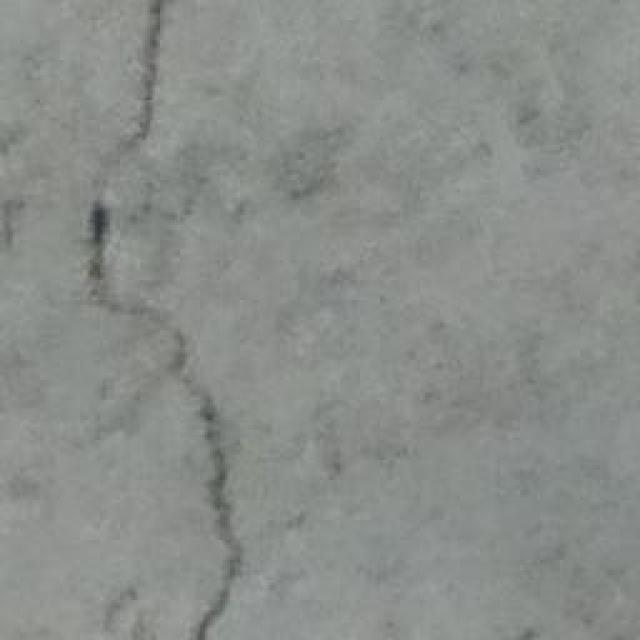Longitudinal: (75, 0, 261, 640)
